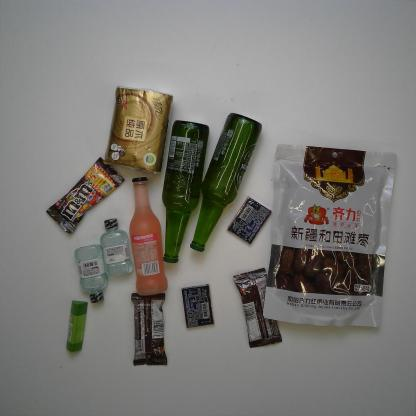Alcohol: (191, 113, 265, 253), (164, 121, 204, 268), (129, 174, 175, 296)
Chocolate: (43, 151, 121, 230), (229, 268, 281, 348), (127, 289, 170, 367)
Dried Food: (262, 137, 398, 331)
Gum: (227, 194, 273, 240), (181, 282, 214, 328)
Personal Hygiene: (99, 217, 131, 275), (74, 246, 107, 302)
Stationery: (66, 295, 92, 352)
Tissue: (107, 81, 171, 174)
